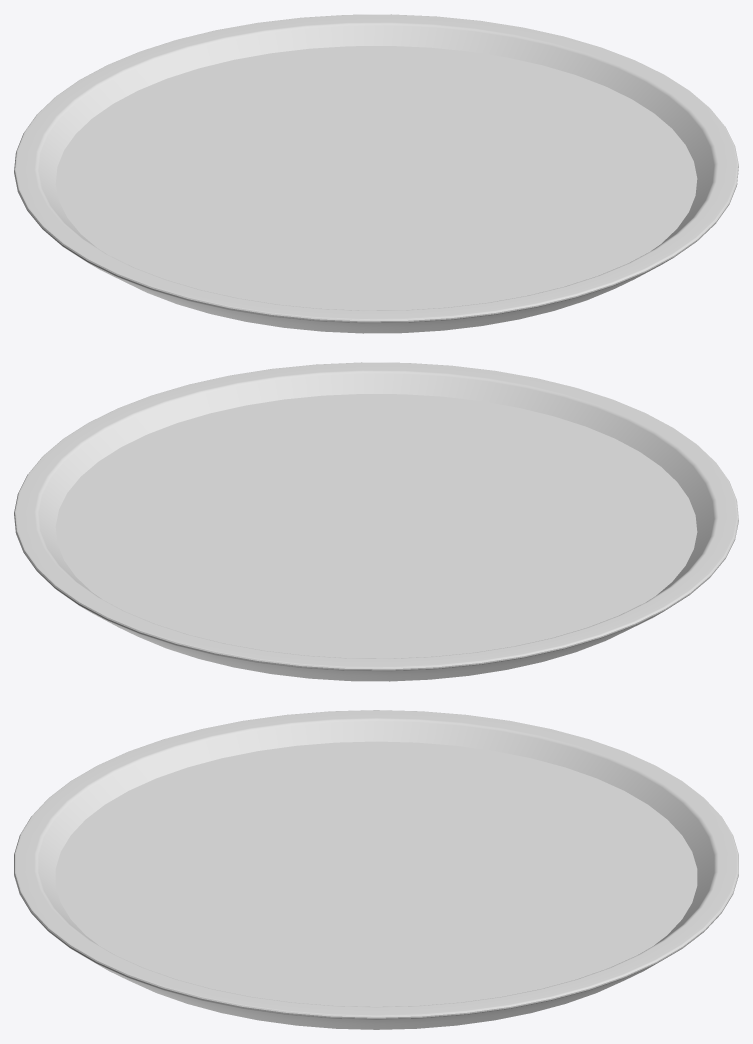
The model's file is plate.fbx.
The picture shows the model from 3 angles, top to bottom: view 1: azimuth 30°, elevation 25°; view 2: azimuth 150°, elevation 25°; view 3: azimuth 270°, elevation 25°; orthographic projection.
Parts seen in each view (by area): view 1: polySurface861; view 2: polySurface861; view 3: polySurface861.
Boxes of the visible parts, x1,y1,x2,y2 form: polySurface861: (14,14,738,333); polySurface861: (14,362,738,681); polySurface861: (14,710,738,1029).
Bounding box in the file's own units: 17.36 × 0.8204 × 17.33.
